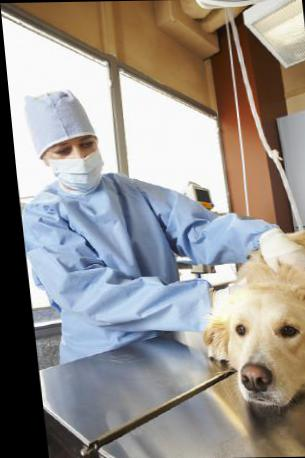WRONG: (43, 132, 98, 191)
